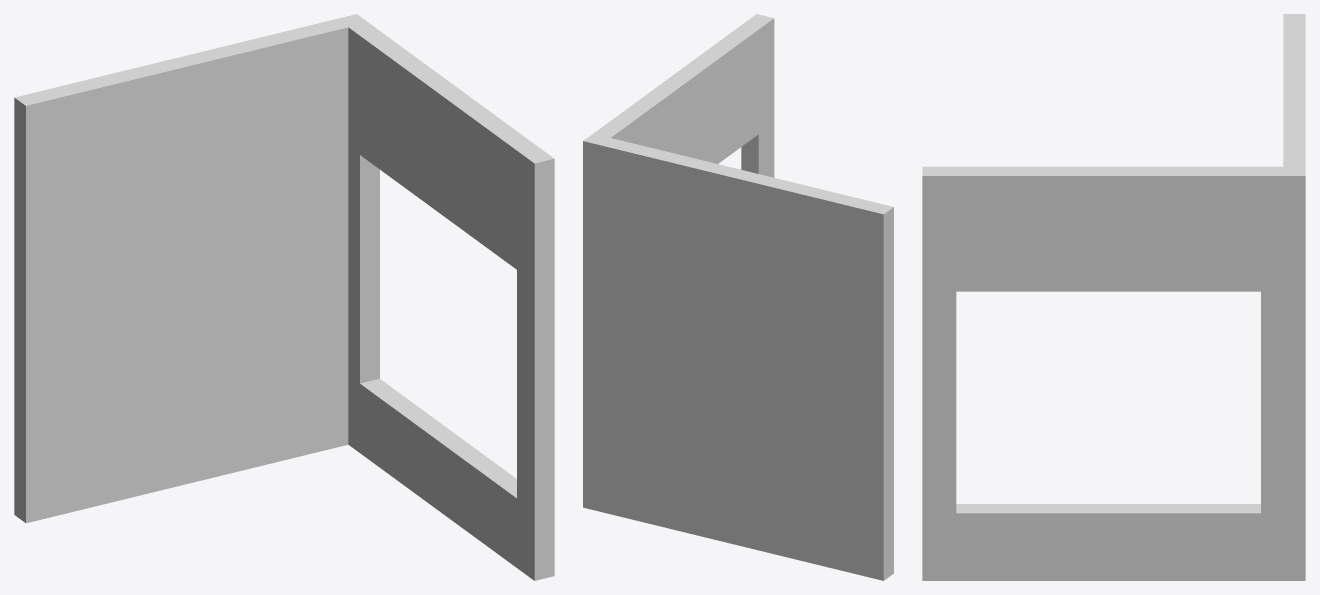
The model's file is Wall1_C1_14.fbx.
3 views of the same model, side by side, from view 1: azimuth 30°, elevation 25°; view 2: azimuth 150°, elevation 25°; view 3: azimuth 270°, elevation 25° (orthographic). The views are drawn at different scales.
Parts seen in each view (by area): view 1: Wall1_C1_14; view 2: Wall1_C1_14; view 3: Wall1_C1_14.
Boxes of the visible parts, x1,y1,x2,y2 form: Wall1_C1_14: (14, 14, 554, 580); Wall1_C1_14: (583, 14, 893, 580); Wall1_C1_14: (922, 14, 1305, 580).
Size of the model in its own units: 258 by 300 by 258.
